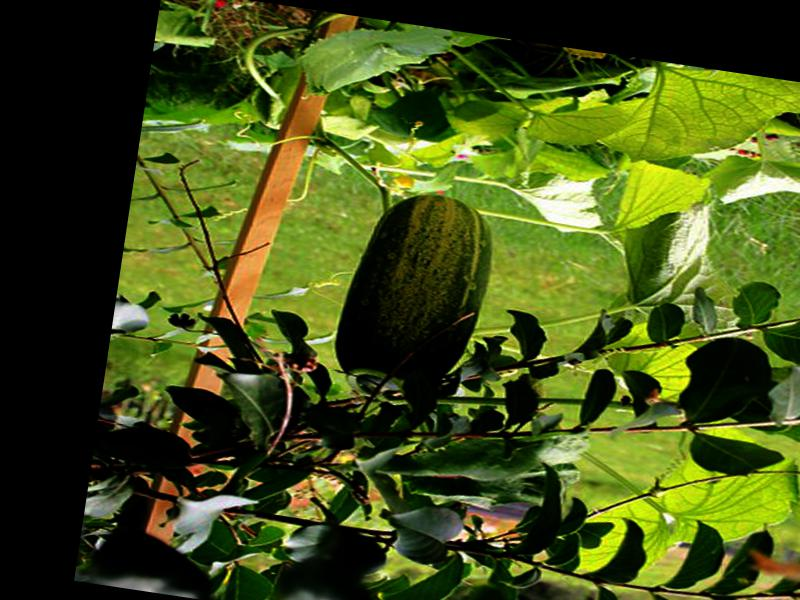Cucumber: (326, 182, 496, 412)
